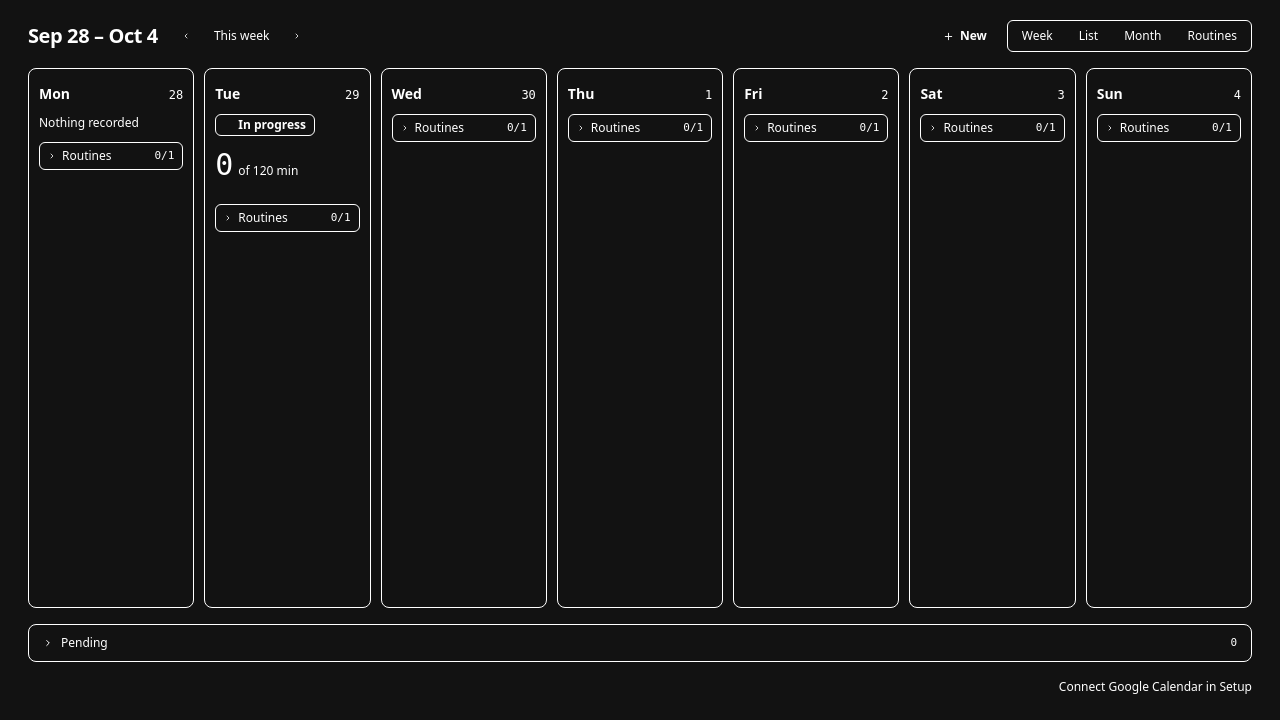
Test: Week routine folds › keeps closed routines mounted for the fold, but out of reach
The width and height of the screenshot is (1280, 720).
Expected: the checkbox labelled "Stretch" is not shown
What coordinates should you click on to do the following:
click the button with aria-label "Routines, 0 of 1 done"
I would click on:
 (287, 218)
Its box is [215,204,360,232].
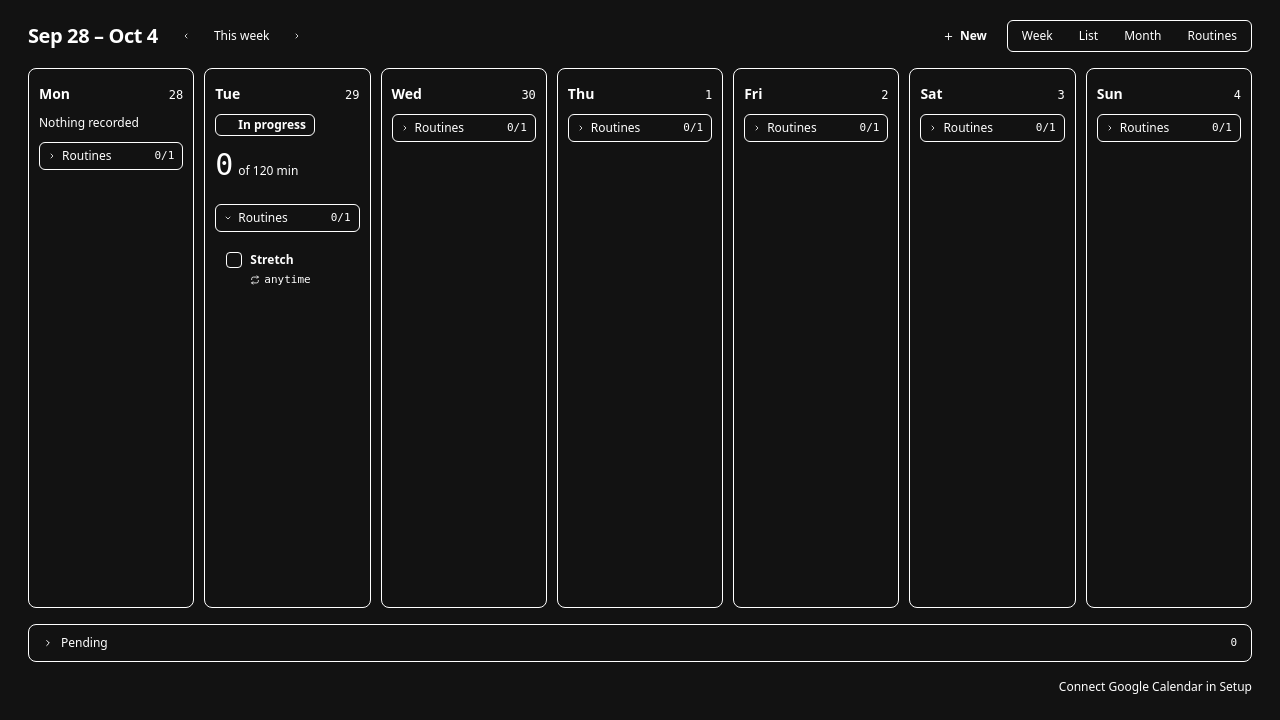
What coordinates should you click on to do the following:
click the checkbox named "Stretch"
I would click on:
 (234, 260)
Its box is [226,252,242,268].
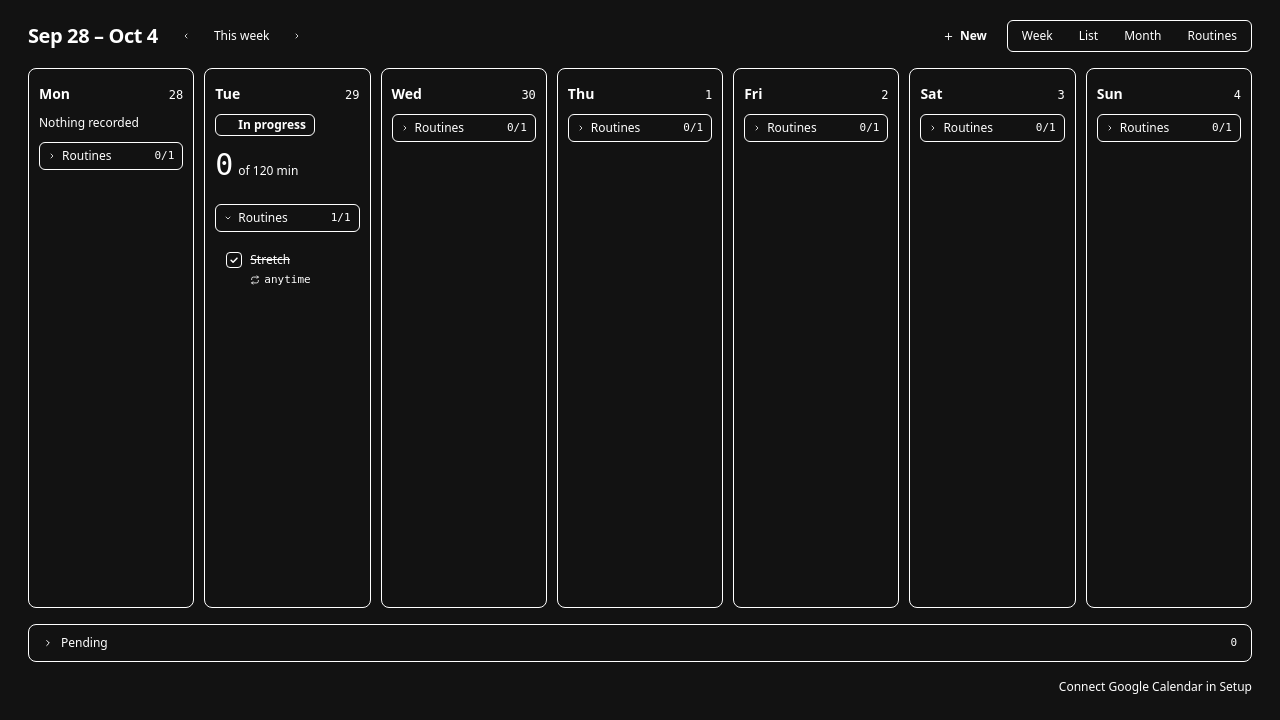
Now the button with aria-label "Routines, 1 of 1 done" is shown, box [215,204,360,232]
